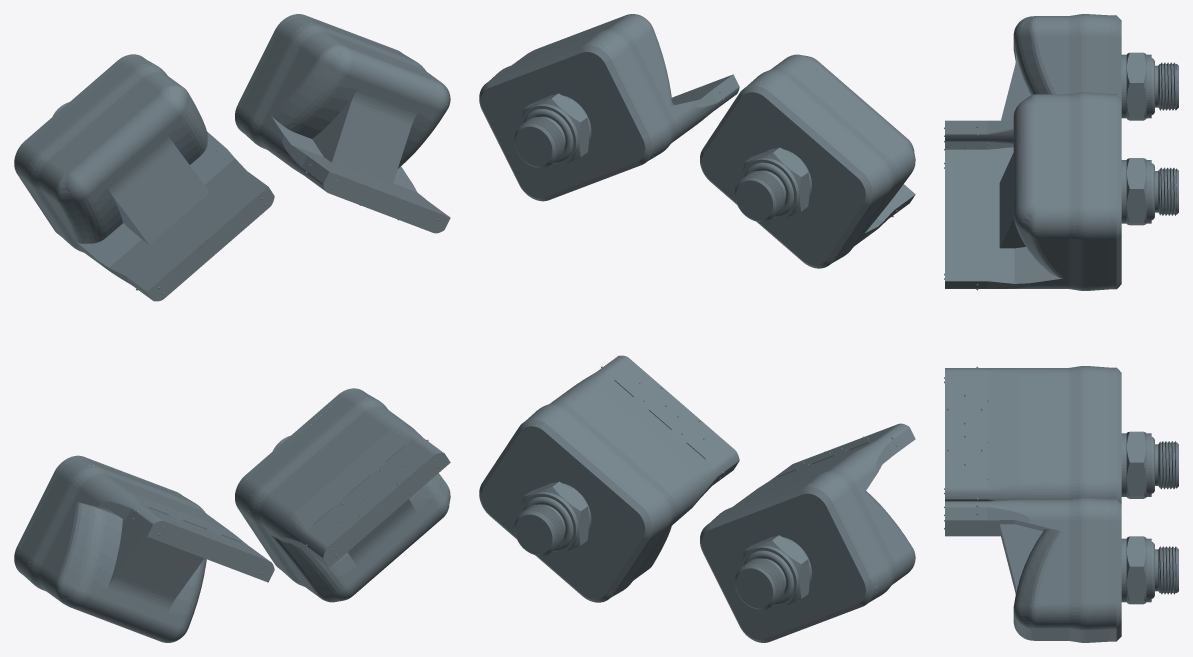
File: fixed-fingers.glb
3 renders of one model, left to right at view 1: azimuth 30°, elevation 25°; view 2: azimuth 150°, elevation 25°; view 3: azimuth 270°, elevation 25°, orthographic. The views are drawn at different scales.
Parts seen in each view (by area): view 1: OEM_DAC_1, OEM_DAC_3, OEM_DAC_0, OEM_DAC_2; view 2: OEM_DAC_3, OEM_DAC_1, OEM_DAC_2, OEM_DAC_0; view 3: OEM_DAC_0, OEM_DAC_2, OEM_DAC_3, OEM_DAC_1.
Boxes of the visible parts, x1,y1,x2,y2 form: OEM_DAC_1: (14, 54, 274, 301); OEM_DAC_3: (235, 388, 450, 602); OEM_DAC_0: (235, 14, 450, 233); OEM_DAC_2: (14, 455, 274, 642); OEM_DAC_3: (479, 355, 739, 602); OEM_DAC_1: (700, 54, 915, 268); OEM_DAC_2: (700, 423, 915, 642); OEM_DAC_0: (479, 14, 739, 201); OEM_DAC_0: (944, 92, 1178, 290); OEM_DAC_2: (944, 366, 1178, 503); OEM_DAC_3: (944, 497, 1178, 642); OEM_DAC_1: (944, 14, 1178, 150).
Bounding box in the file's own units: 0.0899 × 0.1211 × 0.0472.
